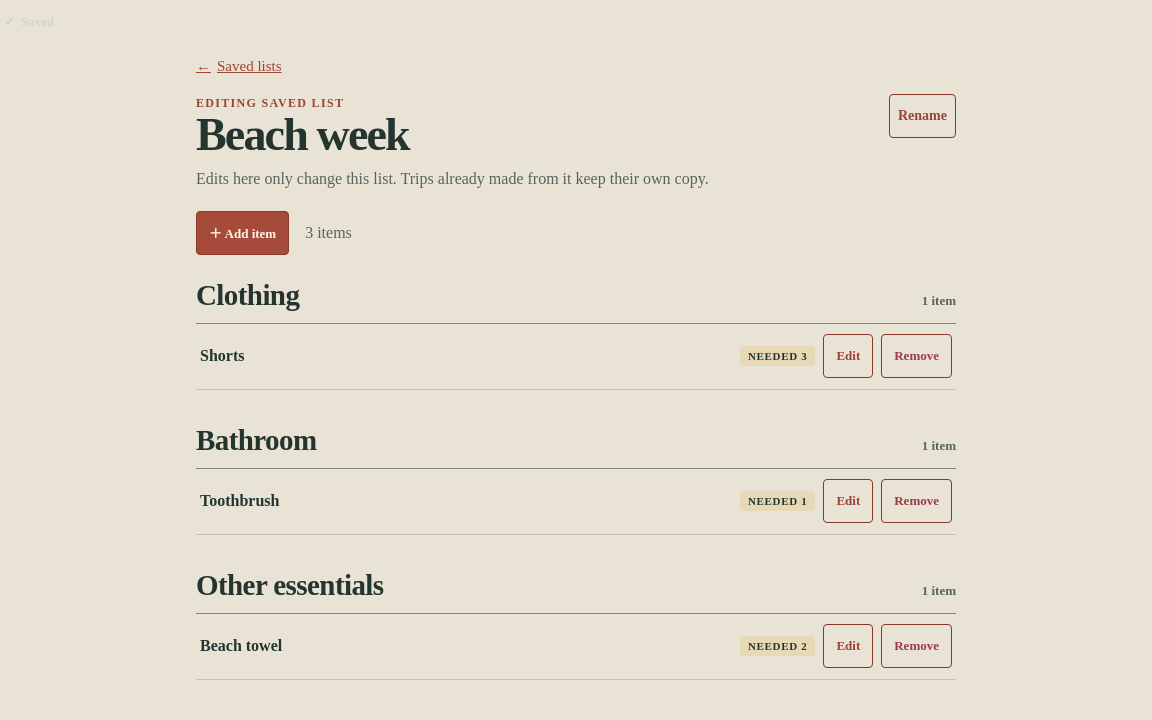
SavedListEditor › asks for a name and a whole quantity from 1 to 999 instead of saving
The image size is (1152, 720).
Expected: the heading "Beach week" is shown, [196,109,409,160]
Click the button "＋ Add item".
click(243, 233)  # box [196,211,289,255]
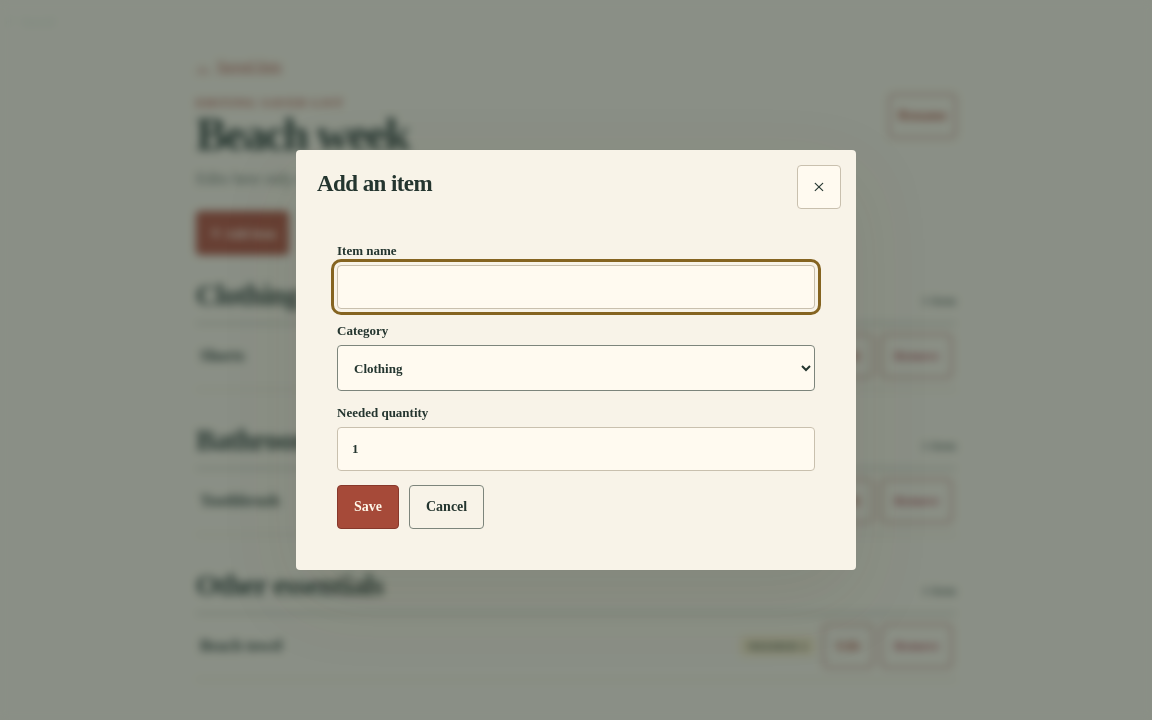
Click the button "Save".
click(368, 507)  # box [337,485,399,529]
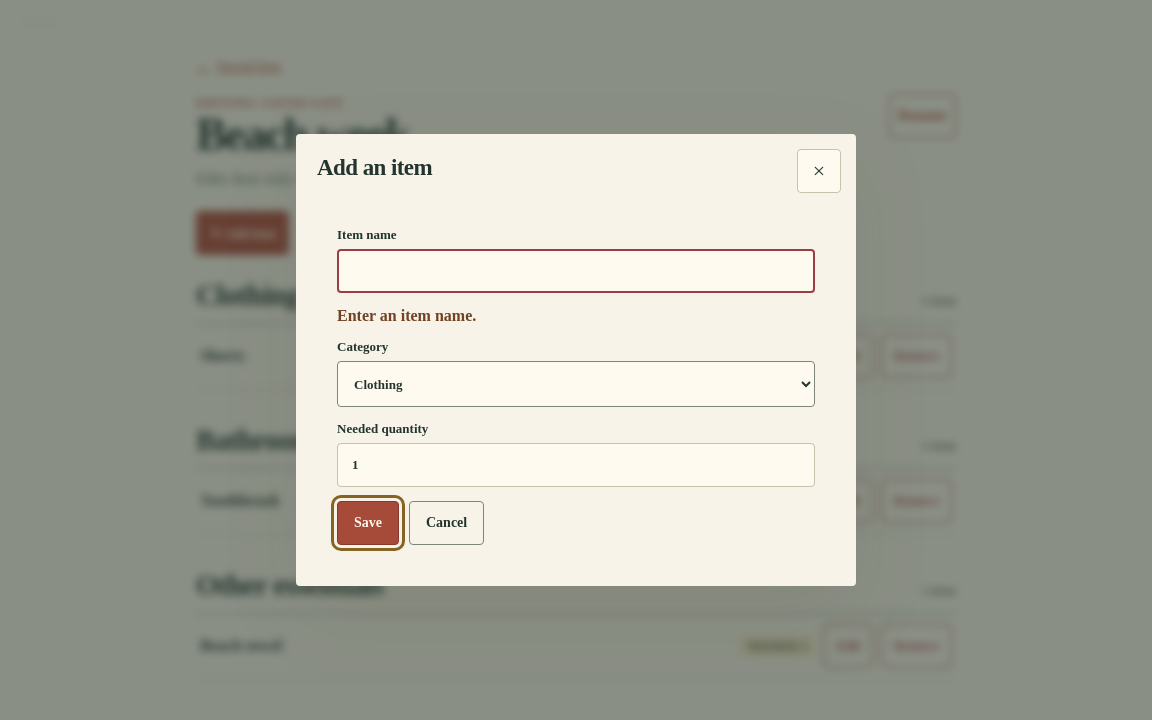
Result: the text "Enter an item name." is shown at [337,307,476,324]
Type "Camera" into the field labelled "Item name".
click(576, 271); type("Camera")  # box [337,249,815,293]
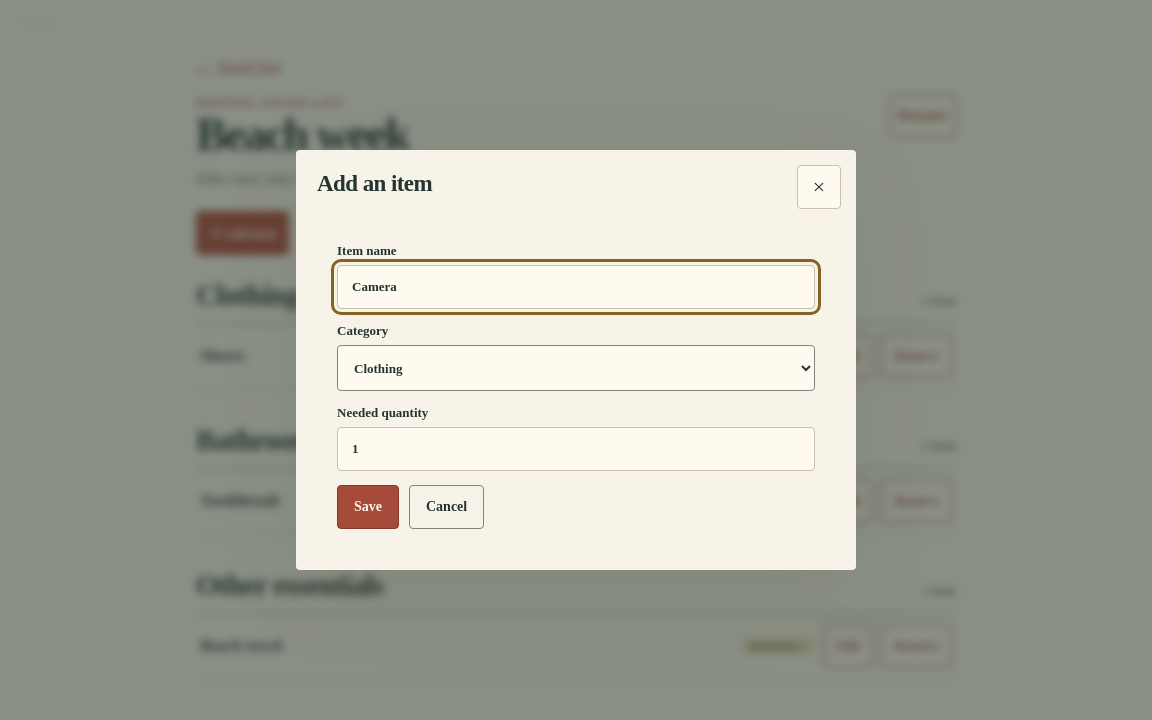
Replace the text in the number field labelled "Needed quantity" with "1000" at coordinates (576, 449), box [337,427,815,471]
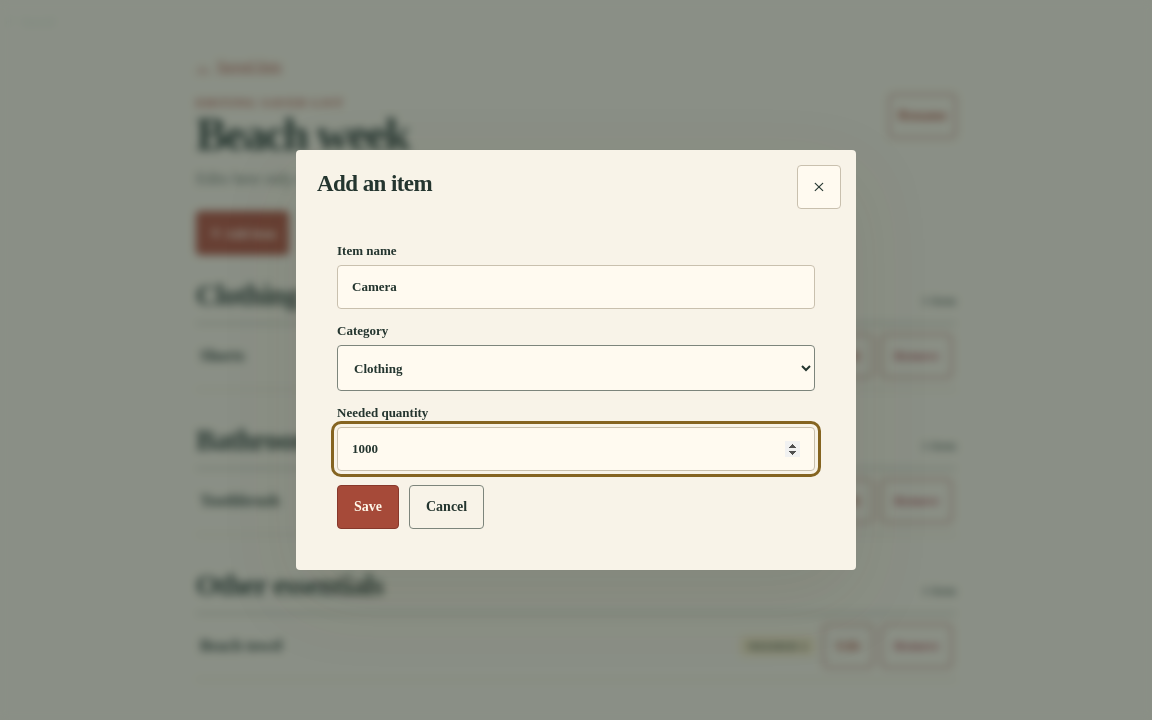
Click the button "Save".
click(368, 507)  # box [337,485,399,529]
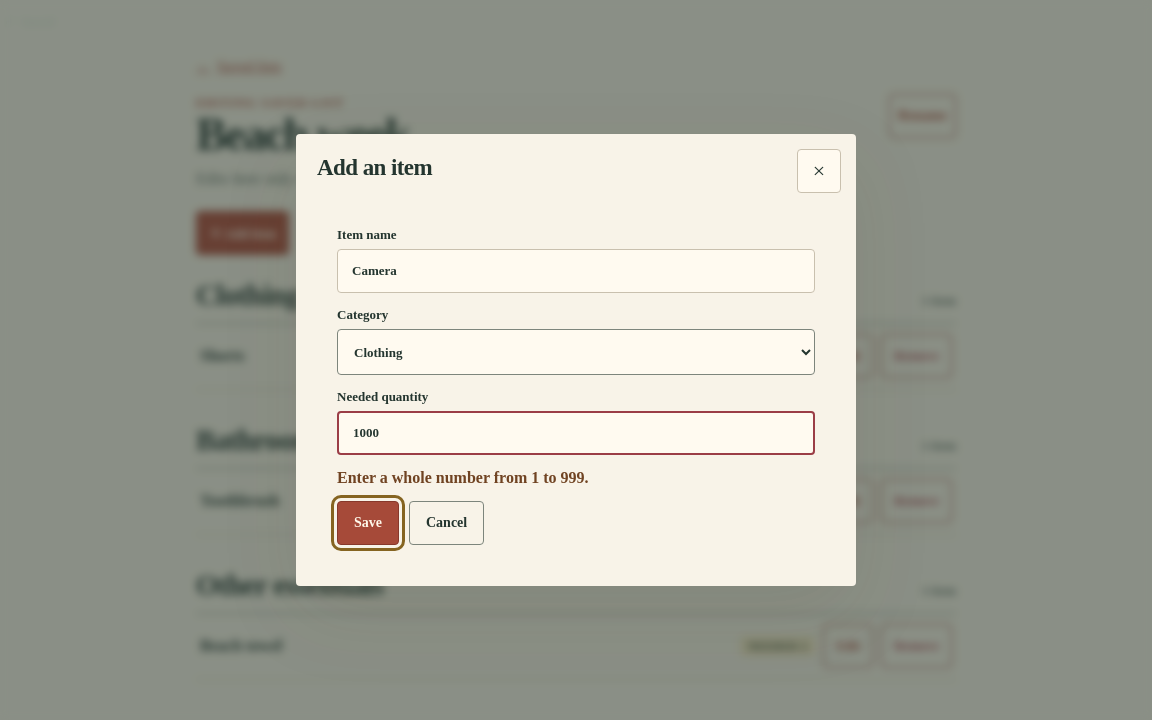
Result: the text "Enter a whole number from 1 to 999." is shown at [337,469,588,486]
